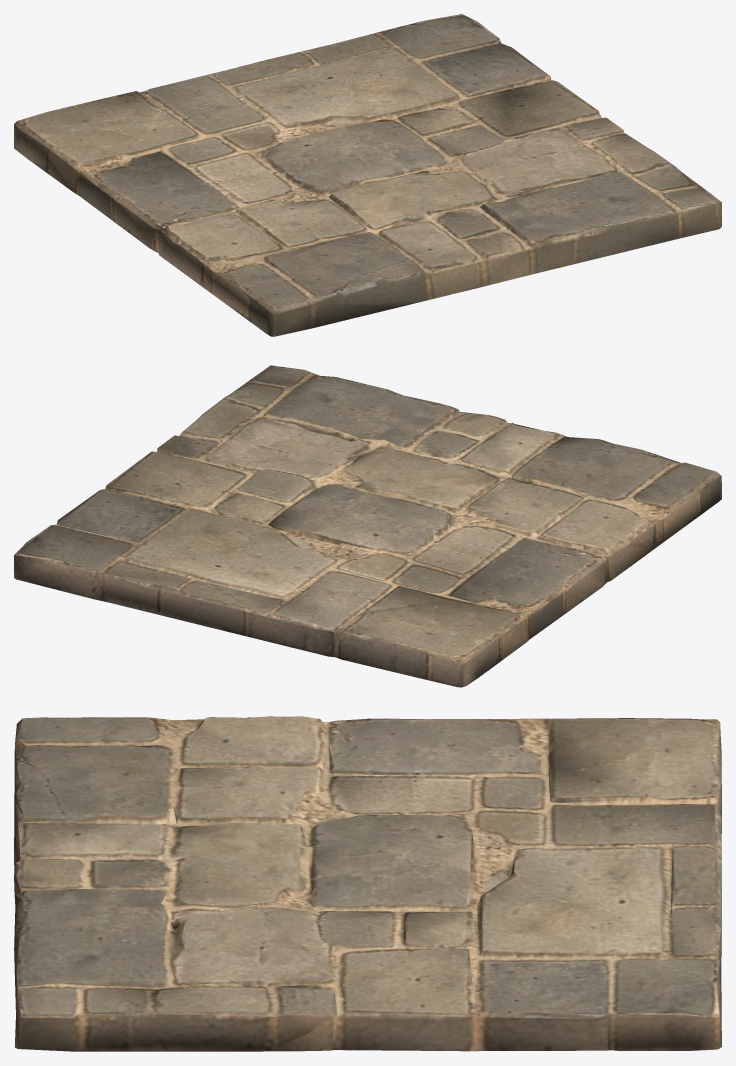
3 views of the same model, one above another, from view 1: azimuth 30°, elevation 25°; view 2: azimuth 150°, elevation 25°; view 3: azimuth 270°, elevation 25° (orthographic). The views are drawn at different scales.
Visible parts, largest first — view 1: geometry_0; view 2: geometry_0; view 3: geometry_0.
Part boxes in pixels (box(x1,y1,x2,y2)): geometry_0: box(14, 14, 721, 336); geometry_0: box(14, 365, 721, 687); geometry_0: box(14, 716, 721, 1051).
Bounding box in the file's own units: 0.5988 × 0.0418 × 0.5976.
1 material, 1 textured.
